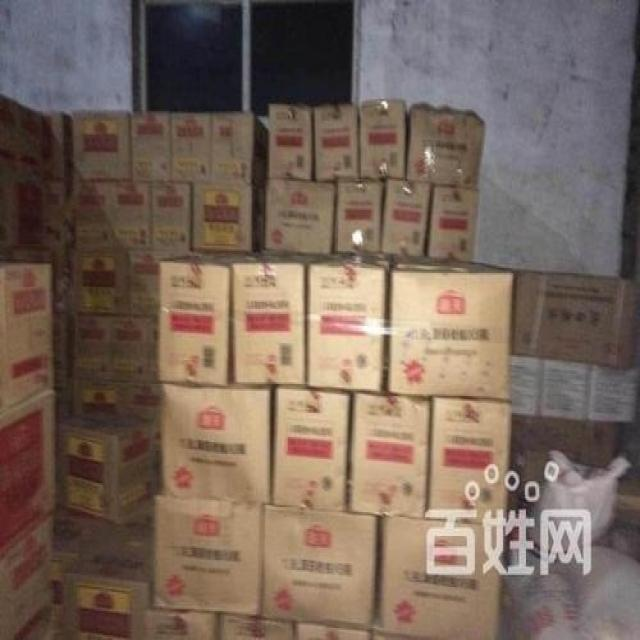box: (388, 253, 513, 403), (380, 517, 503, 640), (261, 503, 379, 631), (154, 490, 262, 618), (163, 379, 274, 503), (230, 253, 332, 384), (64, 497, 155, 640), (159, 249, 251, 389), (512, 271, 639, 369), (306, 254, 393, 393), (425, 398, 512, 527), (58, 418, 164, 521), (346, 393, 431, 521), (0, 387, 58, 560), (273, 382, 351, 510), (0, 263, 54, 415), (45, 172, 76, 425), (49, 512, 110, 640), (0, 512, 56, 640), (406, 102, 486, 191), (264, 176, 335, 256), (192, 184, 265, 251), (128, 247, 191, 319), (210, 111, 269, 184), (74, 109, 132, 181), (332, 177, 384, 254), (588, 346, 640, 423), (424, 184, 477, 259), (76, 247, 132, 316), (381, 179, 430, 256), (358, 101, 406, 179), (315, 106, 361, 184), (296, 611, 419, 640), (269, 104, 315, 181), (536, 358, 593, 420), (110, 314, 159, 384), (151, 181, 195, 253), (172, 113, 212, 183), (132, 113, 172, 181), (110, 181, 151, 247), (73, 311, 111, 379), (508, 415, 549, 476), (76, 183, 114, 247), (146, 608, 220, 640), (73, 377, 123, 420), (219, 614, 296, 640), (580, 422, 623, 468), (547, 416, 588, 464), (123, 381, 163, 430), (512, 355, 543, 418), (15, 101, 44, 167), (44, 113, 73, 176), (0, 96, 18, 159)
